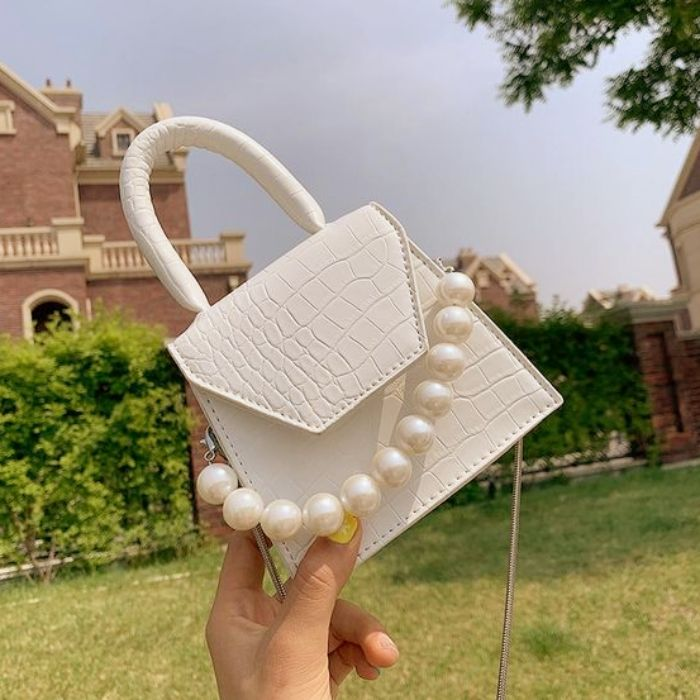cuero: (119, 115, 564, 603)
